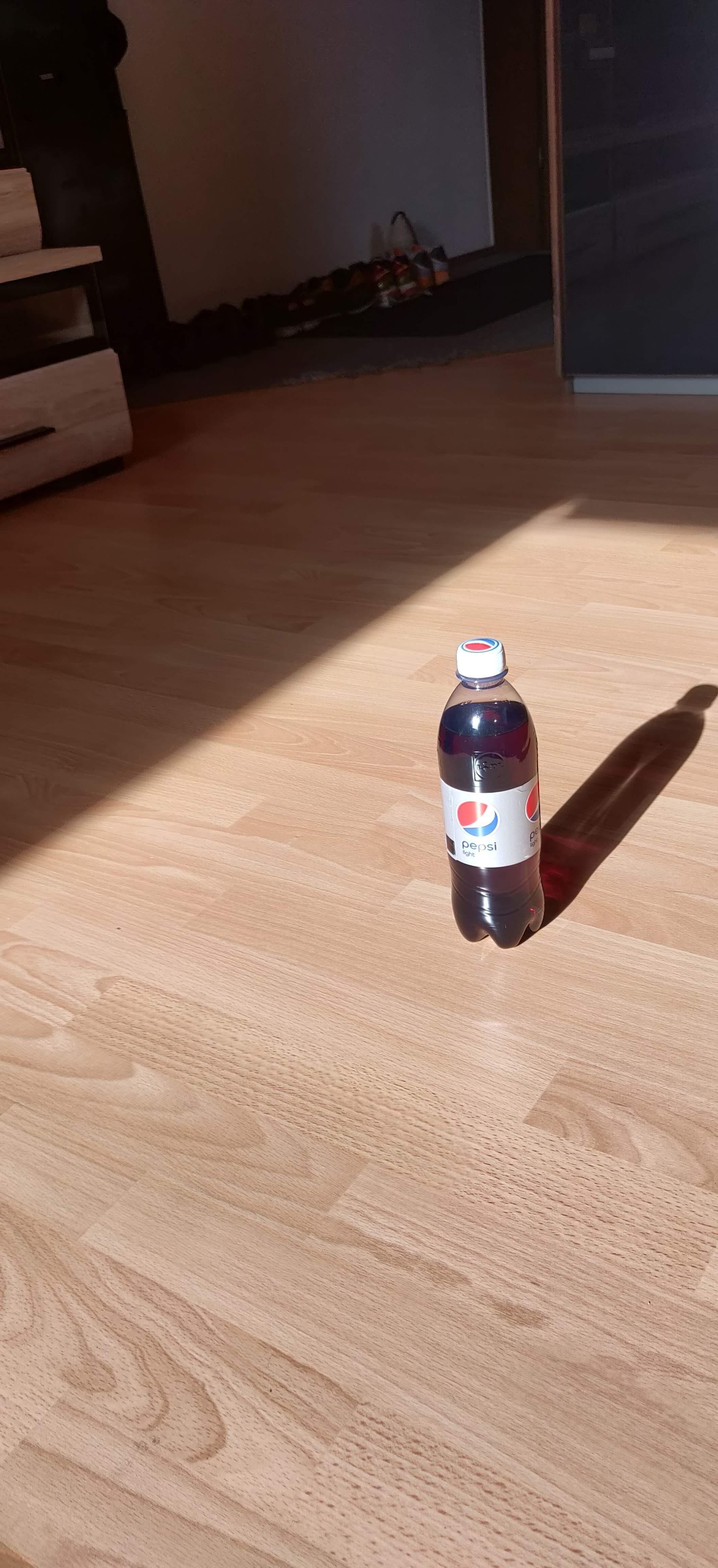bottle-plastic: (435, 635, 547, 949)
